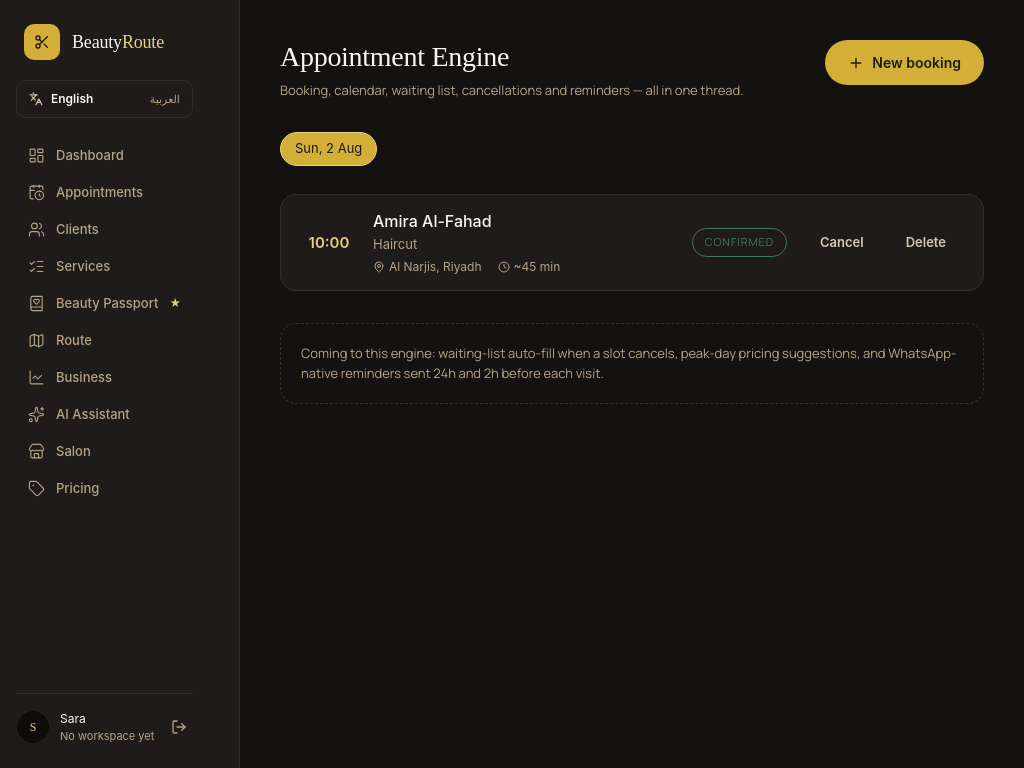
Appointments page › deletes an appointment
Expected: the text "Amira Al-Fahad" is shown, [373, 211, 492, 231]
Click the button "Delete": coordinates (926, 243) [889, 224, 963, 261]
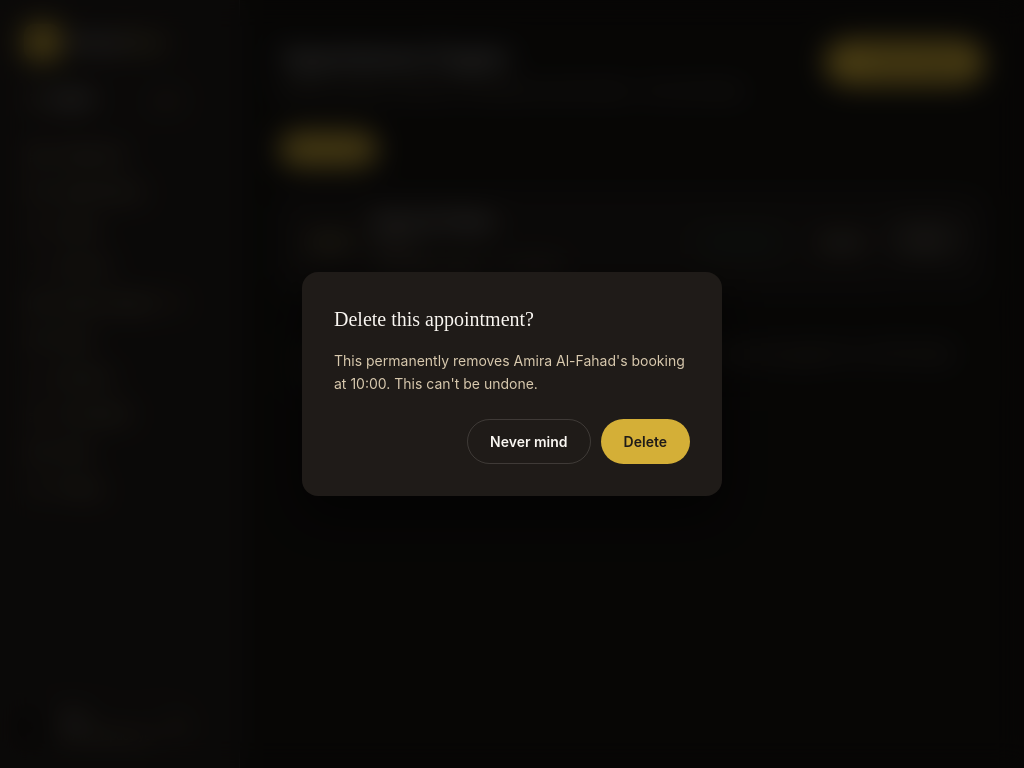
Click the button "Delete": coordinates (645, 441) [601, 419, 690, 464]
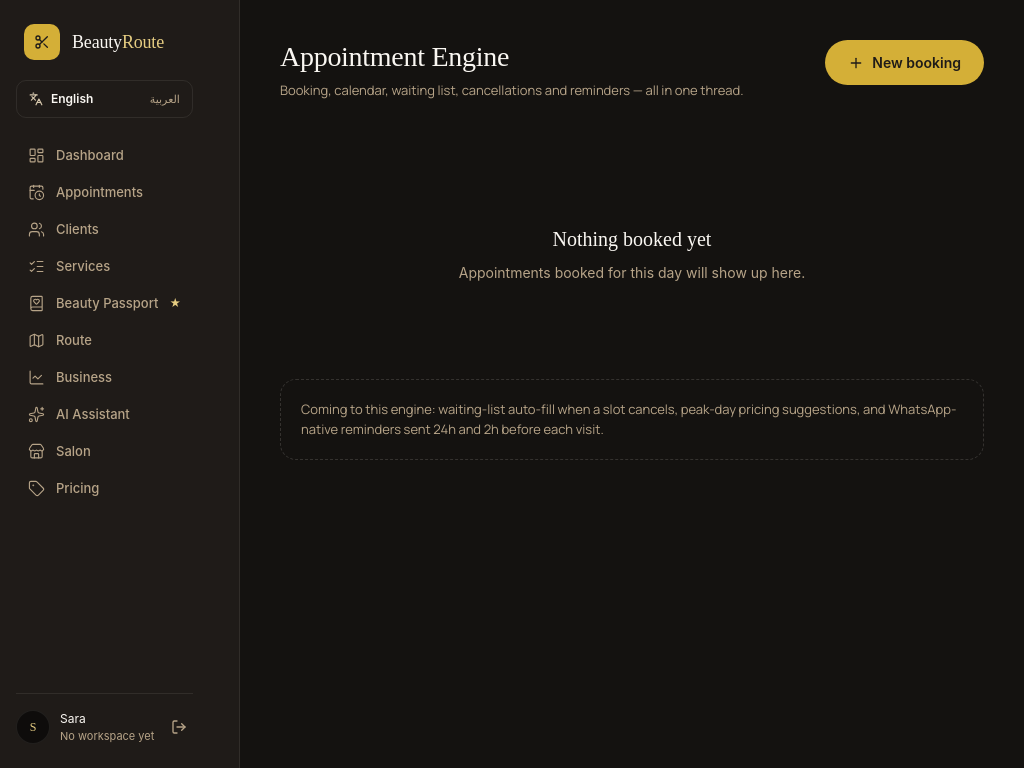
Expected: the text "Nothing booked yet" is shown, [553, 224, 712, 254]
